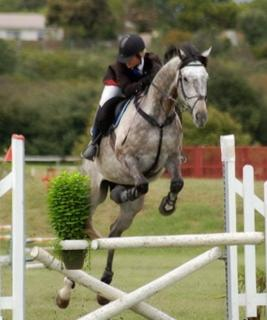horse: (56, 43, 214, 310)
person: (83, 33, 166, 162)
pottedplant: (47, 169, 90, 269)
